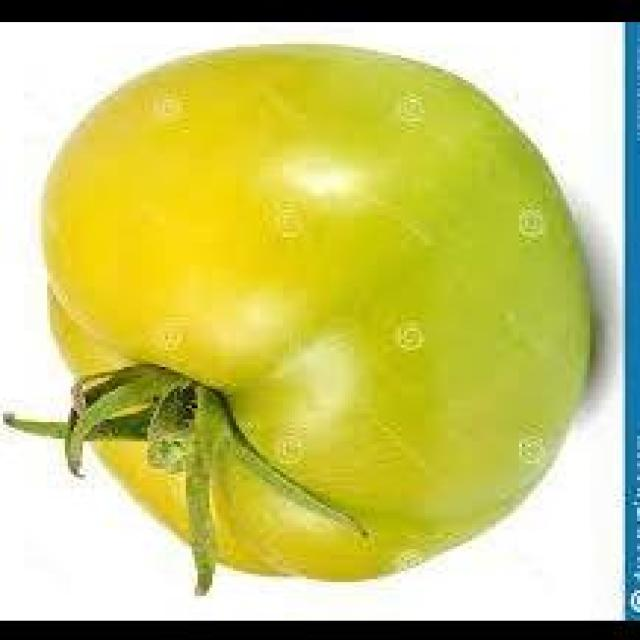Tomato: (38, 39, 597, 584)
